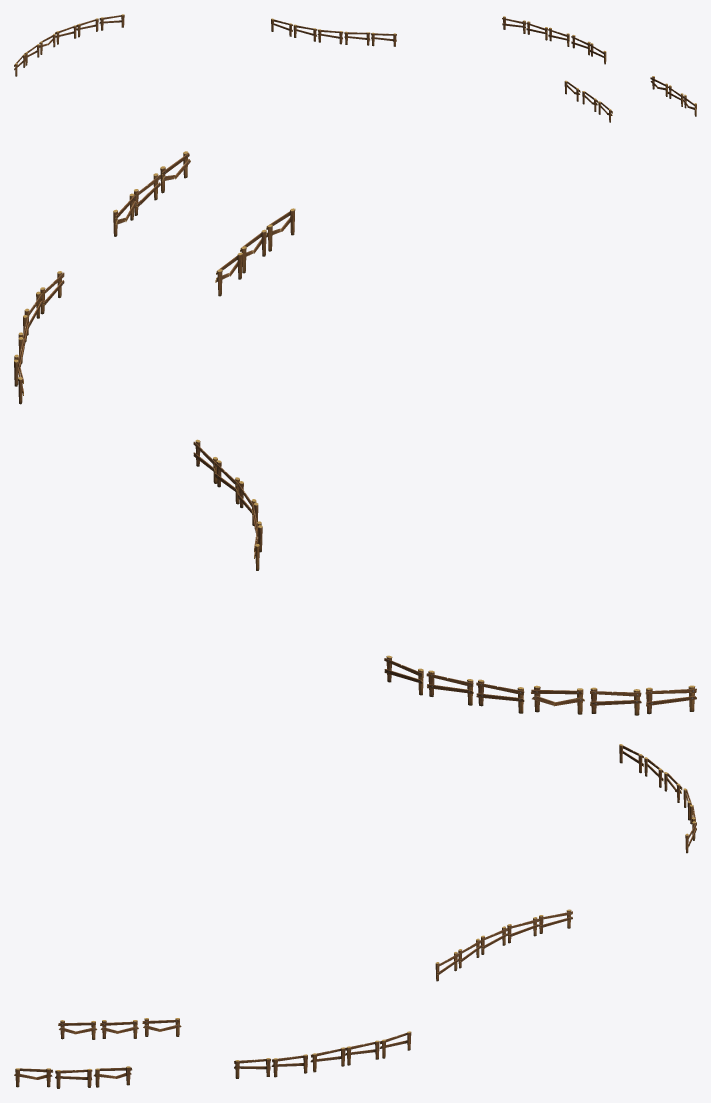
The model's file is Area_07_4.fbx.
3 renders of one model, top to bottom at view 1: azimuth 30°, elevation 25°; view 2: azimuth 150°, elevation 25°; view 3: azimuth 270°, elevation 25°, orthographic. The views are drawn at different scales.
Visible parts, largest first — view 1: Area_07_4; view 2: Area_07_4; view 3: Area_07_4.
Boxes of the visible parts, x1,y1,x2,y2 form: Area_07_4: (14, 14, 696, 122); Area_07_4: (14, 151, 696, 715); Area_07_4: (14, 744, 696, 1088).
Size of the model in its own units: 5447 by 151 by 4792.
